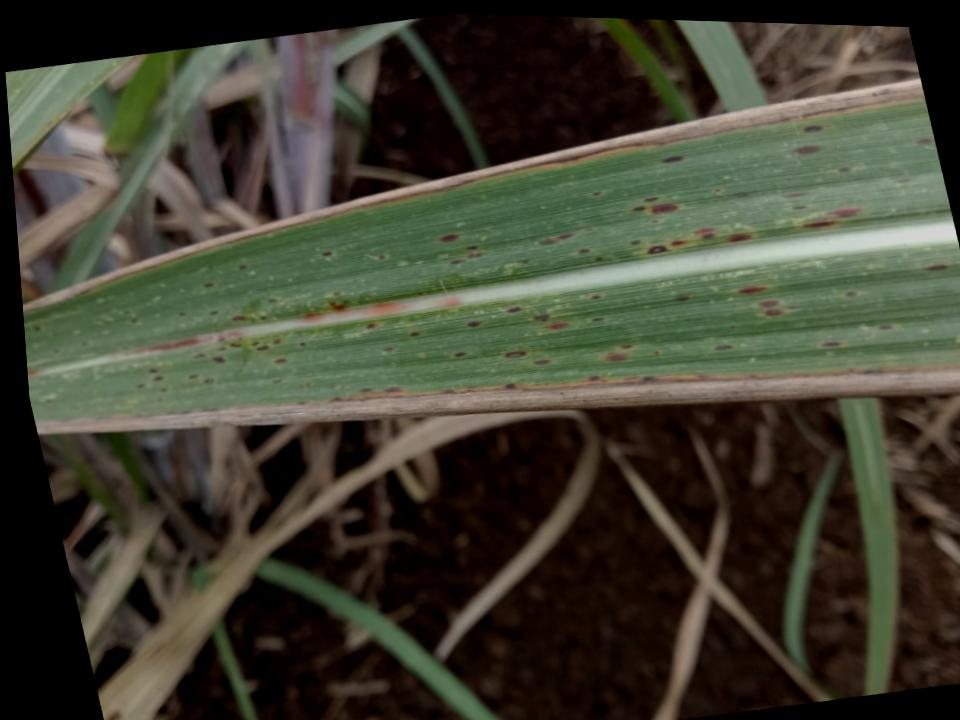RedRot: (122, 326, 244, 357), (298, 297, 416, 322)
Rust: (126, 317, 426, 397), (625, 191, 755, 256), (167, 294, 286, 323), (784, 189, 864, 232), (534, 223, 605, 262), (293, 384, 406, 405), (736, 282, 793, 322), (583, 343, 637, 382), (447, 240, 487, 267), (534, 313, 571, 328), (432, 229, 463, 246), (447, 348, 474, 361), (196, 279, 219, 290), (504, 348, 528, 358), (795, 145, 820, 154), (505, 305, 523, 315), (662, 155, 683, 163), (467, 318, 484, 327), (532, 357, 553, 364), (716, 343, 734, 351), (319, 249, 335, 258), (802, 125, 822, 132), (675, 295, 692, 303), (591, 314, 607, 322), (588, 294, 604, 301), (918, 136, 931, 144)
